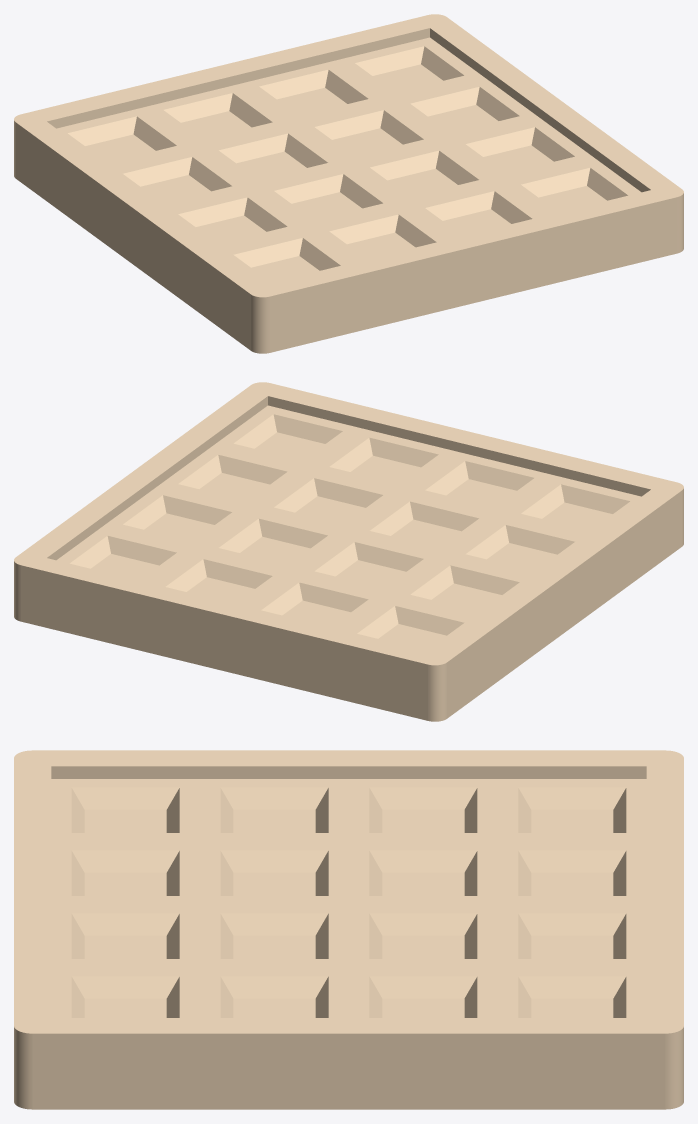
The model's file is waffle.glb.
3 views of the same model, one above another, from view 1: azimuth 30°, elevation 25°; view 2: azimuth 150°, elevation 25°; view 3: azimuth 270°, elevation 25° (orthographic). The views are drawn at different scales.
Parts seen in each view (by area): view 1: waffle; view 2: waffle; view 3: waffle.
Boxes of the visible parts, left/top/right/bottom form: waffle: left=14, top=14, right=683, bottom=353; waffle: left=14, top=382, right=683, bottom=721; waffle: left=14, top=750, right=683, bottom=1109.
Size of the model in its own units: 0.3204 by 0.0401 by 0.3204.
